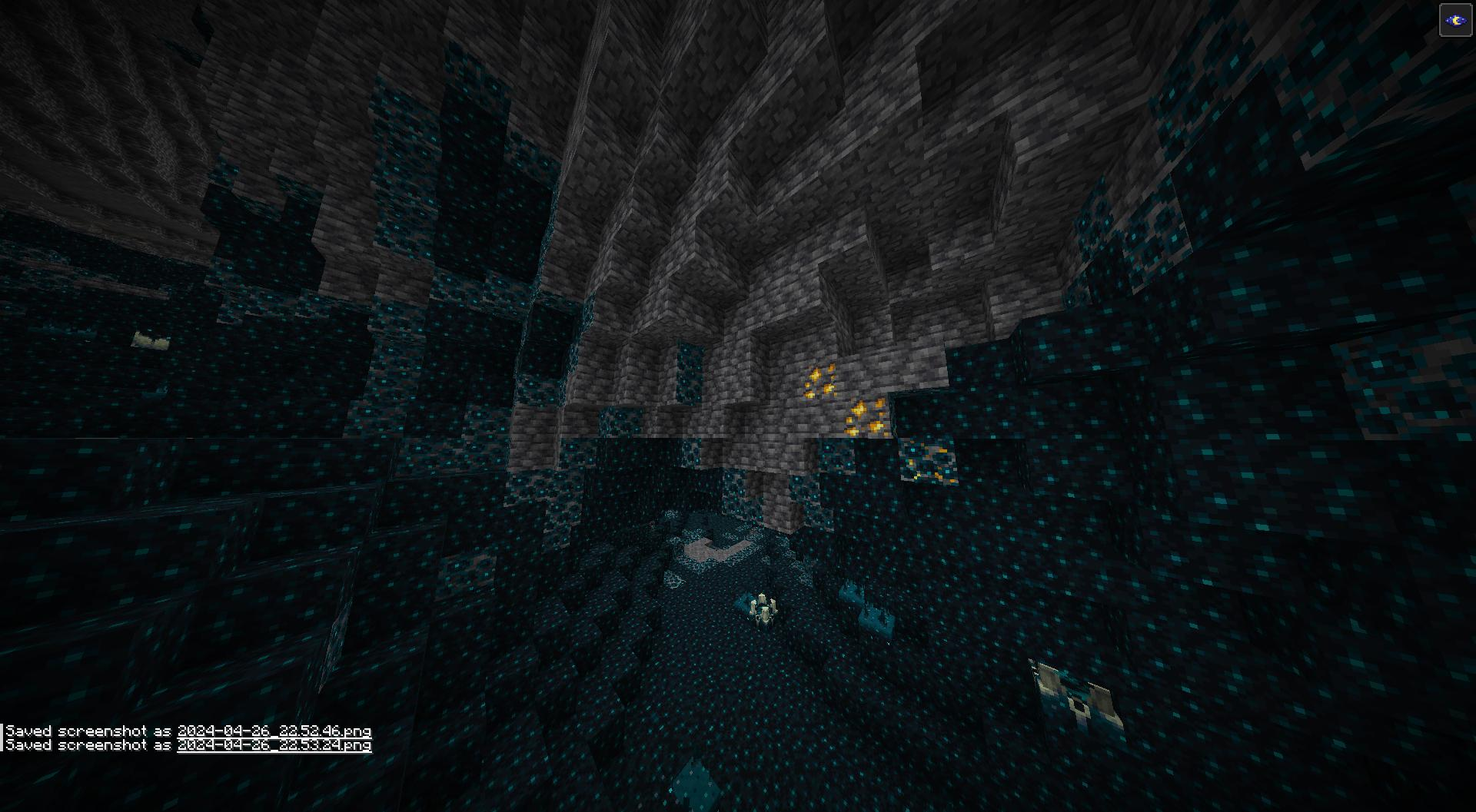gold ore: (843, 395, 890, 440), (803, 360, 839, 401)
